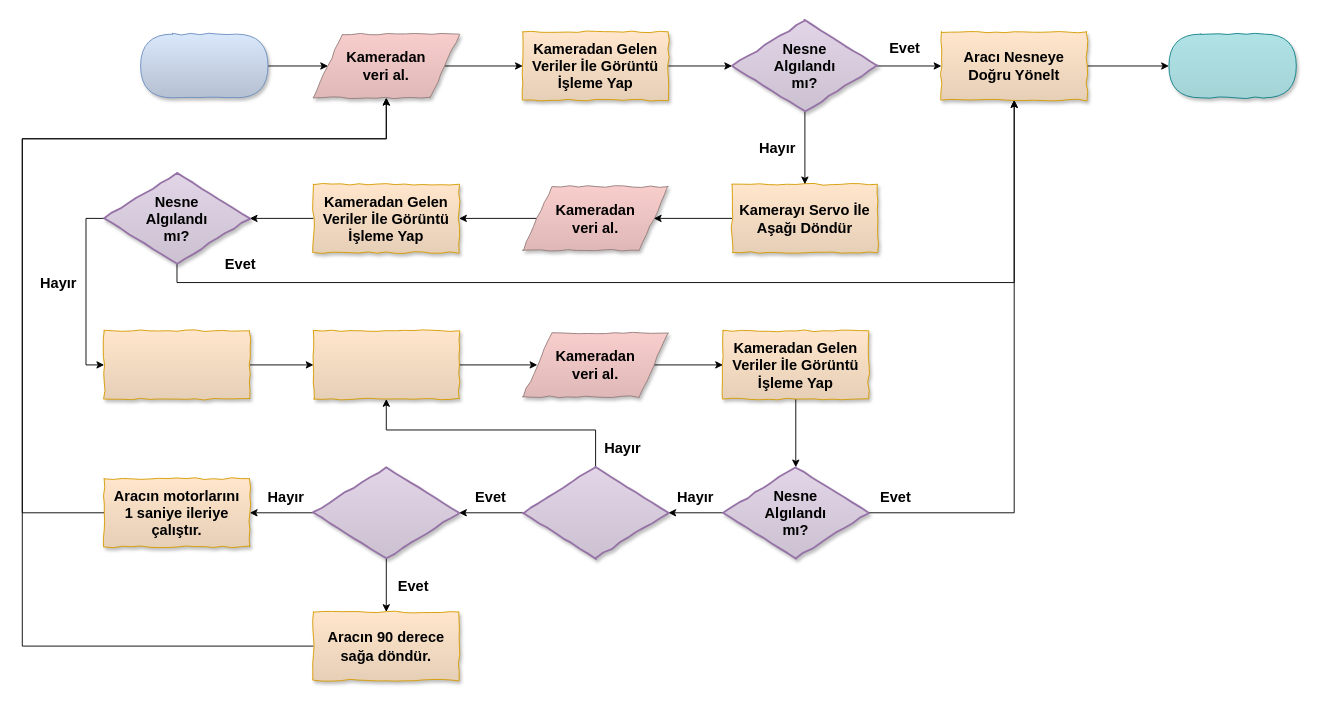
Some shapes in this 1318 by 703 pixel diagram are drawn without their labels. The shapes that lost their labels are listed below. From the top down, each one's centre as x and y in pixels, then its label:
At (x=204, y=67): "Başla".
At (x=1233, y=67): "Bitiş".
At (x=177, y=365): "Sayaç = 0".
At (x=387, y=365): "Sayaç++ Aracı 120 Derece Sağa Döndür".
At (x=386, y=513): "Önünde engel var mı?".
At (x=596, y=513): "Sayaç = 3 mü?".
